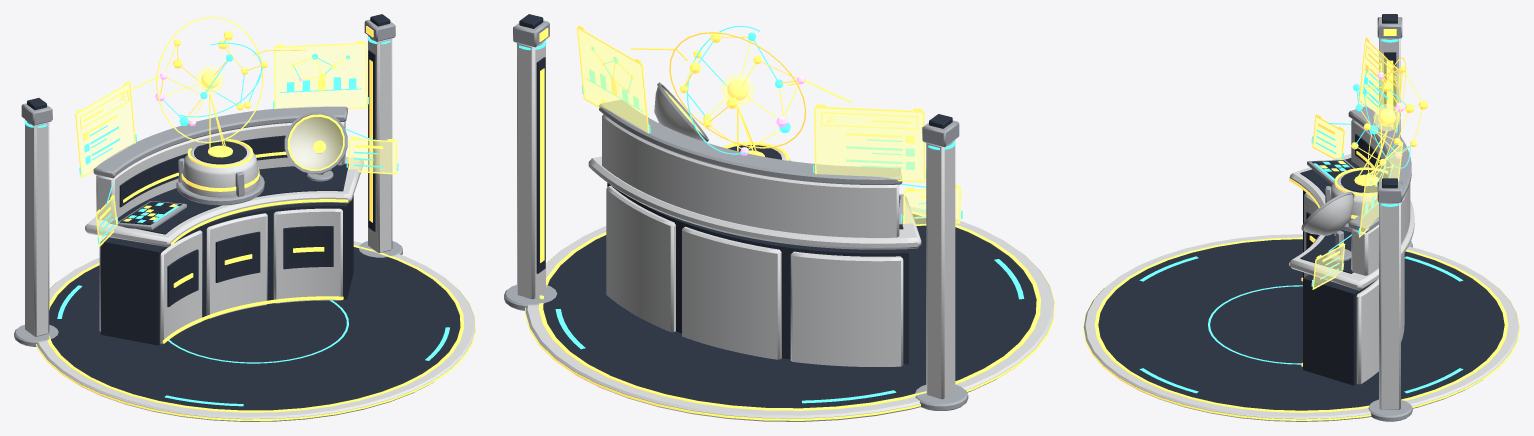
Rendered from research.glb.
The picture shows the model from 3 angles, left to right: view 1: azimuth 30°, elevation 25°; view 2: azimuth 150°, elevation 25°; view 3: azimuth 270°, elevation 25°; orthographic projection. The views are drawn at different scales.
Visible parts, largest first — view 1: research; view 2: research; view 3: research.
Boxes of the visible parts, x1,y1,x2,y2 form: research: (14, 14, 475, 421); research: (504, 14, 1054, 421); research: (1083, 14, 1519, 421).
Bounding box in the file's own units: 3.01 × 2.03 × 3.01.
